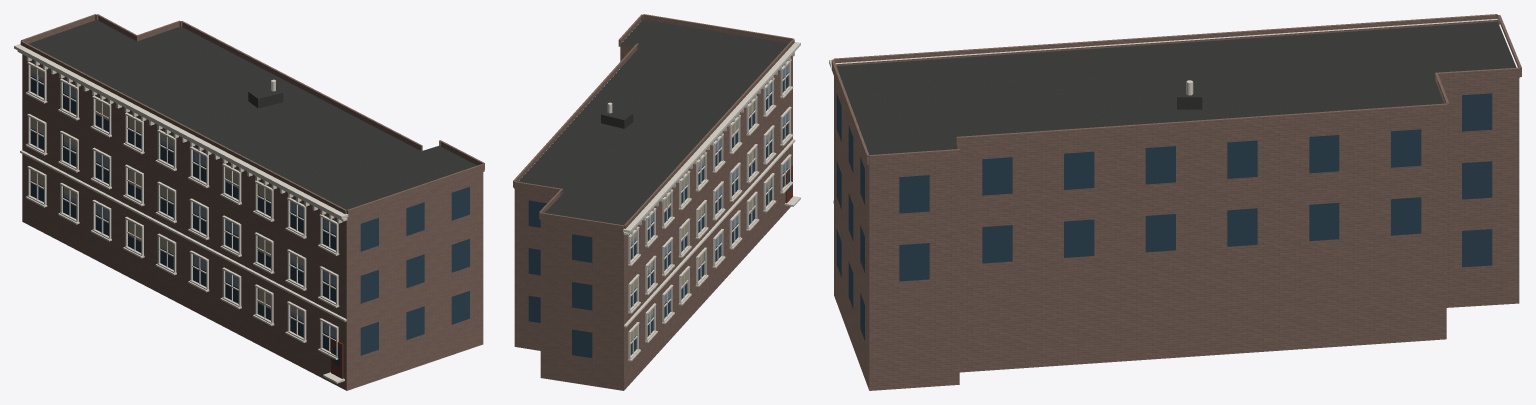
3 views of the same model, side by side, from view 1: azimuth 30°, elevation 25°; view 2: azimuth 150°, elevation 25°; view 3: azimuth 270°, elevation 25° (orthographic). The views are drawn at different scales.
Visible parts, largest first — view 1: Footprint 0 / surface 2, Footprint 0 / surface 1, Cornices and window frames, Inset glazing, Facade bay volumes, Interior blind variation, Sky reflection panels; view 2: Footprint 0 / surface 2, Footprint 0 / surface 1, Cornices and window frames, Inset glazing, Facade bay volumes, Interior blind variation, Sky reflection panels; view 3: Footprint 0 / surface 2, Footprint 0 / surface 1, Inset glazing, Facade bay volumes, Cornices and window frames.
Part boxes in pixels (box(x1,y1,x2,y2)): Footprint 0 / surface 2: box(22, 54, 483, 390); Footprint 0 / surface 1: box(28, 20, 476, 209); Cornices and window frames: box(14, 44, 348, 383); Inset glazing: box(30, 66, 469, 366); Facade bay volumes: box(20, 14, 484, 217); Interior blind variation: box(31, 66, 303, 317); Sky reflection panels: box(31, 66, 335, 338); Footprint 0 / surface 2: box(514, 45, 792, 390); Footprint 0 / surface 1: box(518, 19, 788, 225); Cornices and window frames: box(623, 42, 800, 361); Inset glazing: box(528, 72, 791, 357); Facade bay volumes: box(513, 14, 794, 232); Interior blind variation: box(630, 102, 771, 341); Sky reflection panels: box(630, 64, 788, 322); Footprint 0 / surface 2: box(834, 77, 1519, 390); Footprint 0 / surface 1: box(836, 21, 1516, 154); Inset glazing: box(836, 93, 1492, 340); Facade bay volumes: box(831, 14, 1521, 165); Cornices and window frames: box(829, 19, 1497, 203).
Size of the model in its own units: 16.32 by 13.25 by 32.74.
